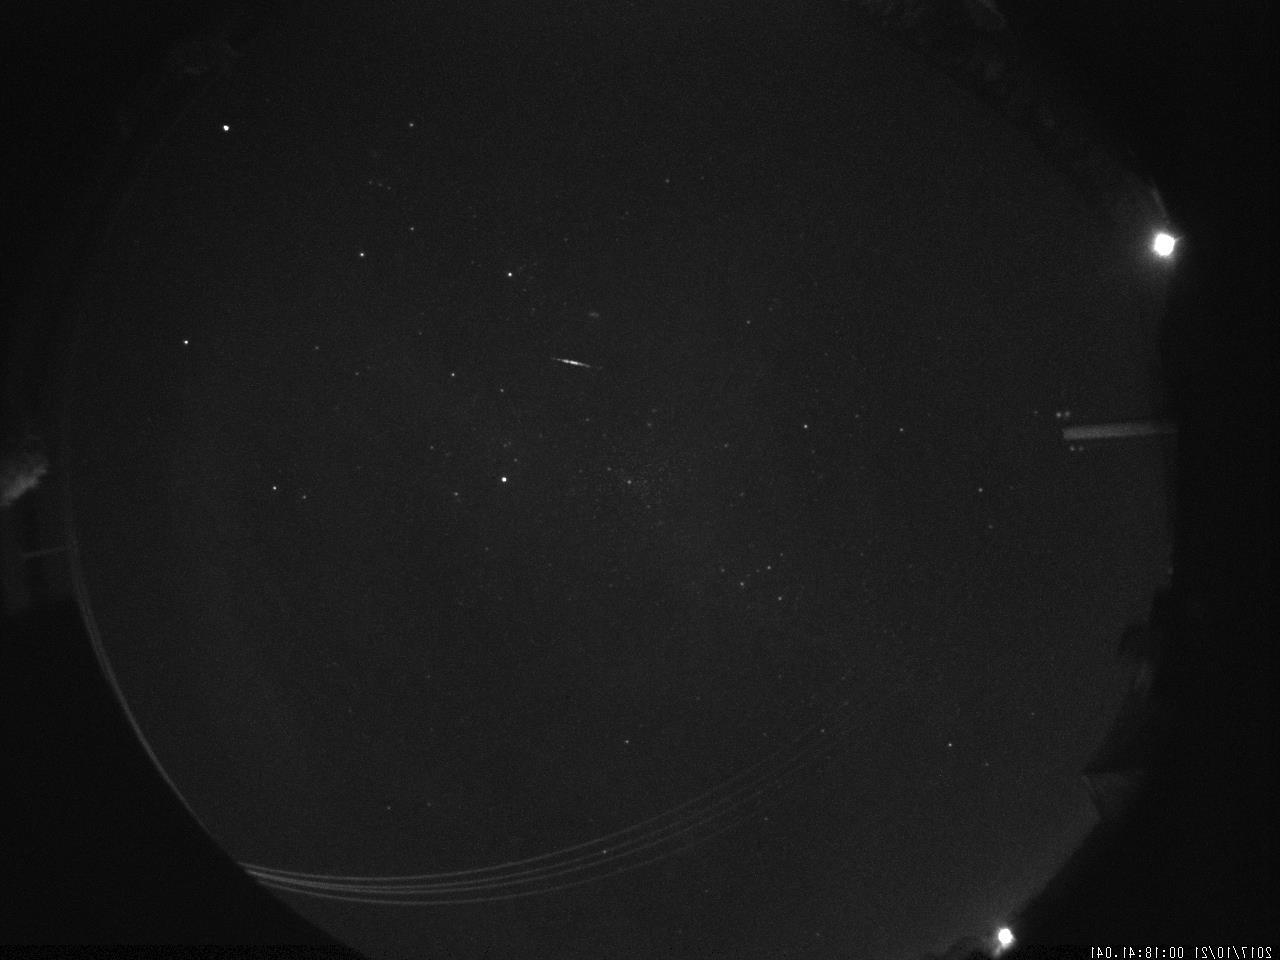meteor: (528, 342, 607, 378)
